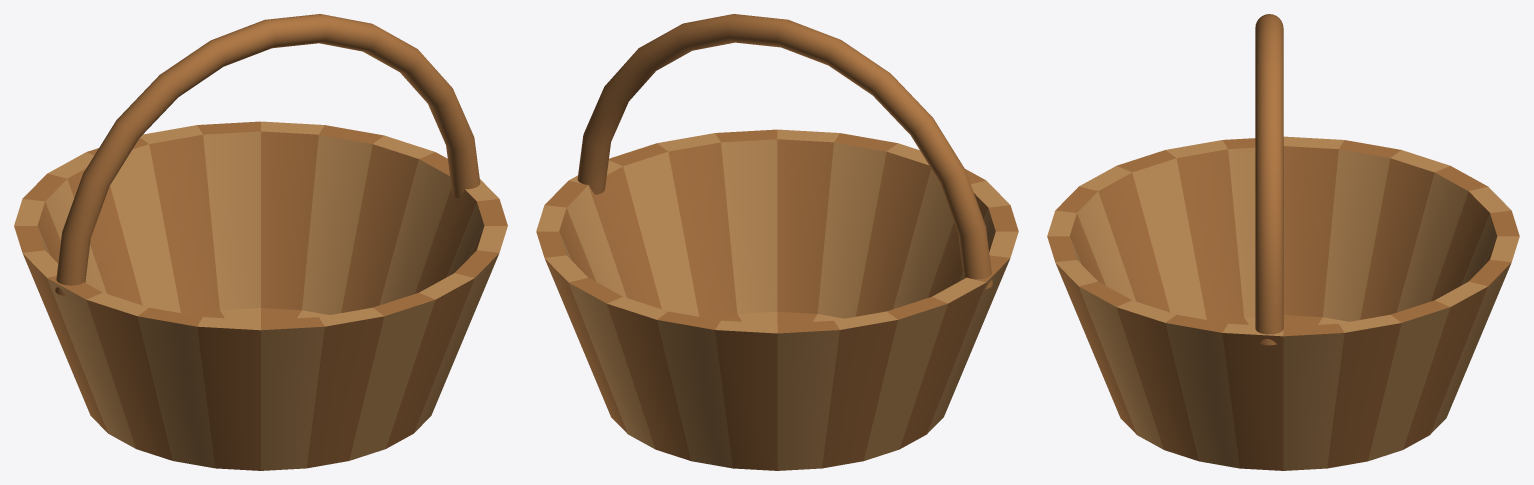
Rendered from basket.glb.
3 renders of one model, left to right at view 1: azimuth 30°, elevation 25°; view 2: azimuth 150°, elevation 25°; view 3: azimuth 270°, elevation 25°, orthographic. The views are drawn at different scales.
Parts seen in each view (by area): view 1: basket, handle; view 2: basket, handle; view 3: basket, handle.
Boxes of the visible parts, x1,y1,x2,y2 form: basket: [14, 121, 507, 470]; handle: [55, 14, 480, 296]; basket: [536, 129, 1018, 470]; handle: [577, 14, 992, 289]; basket: [1047, 136, 1519, 470]; handle: [1255, 14, 1283, 345].
Size of the model in its own units: 0.84 by 0.715 by 0.84.
